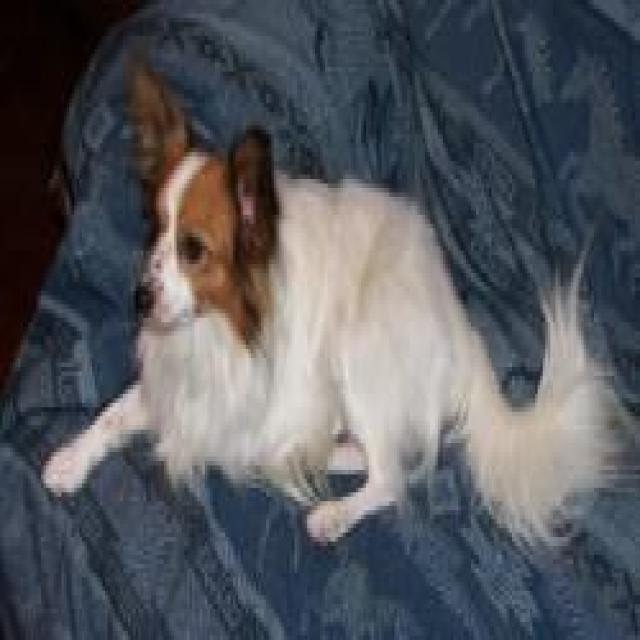papillon: (41, 45, 625, 559)
